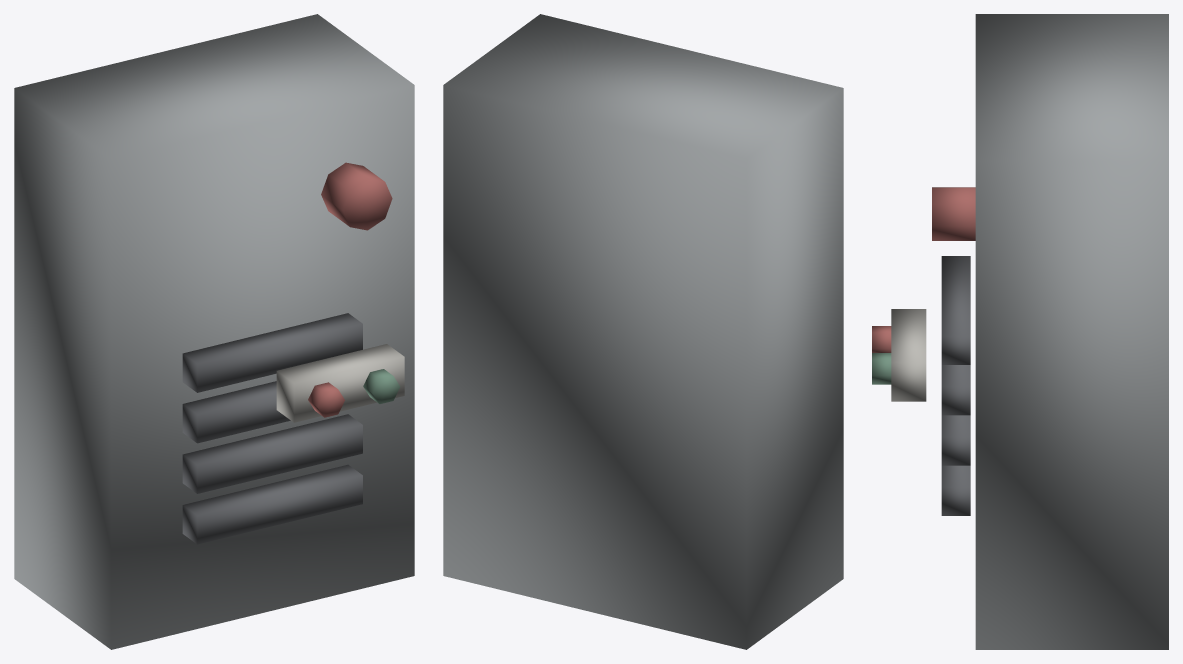
The model's file is wall_intercom__deep.glb.
3 views of the same model, side by side, from view 1: azimuth 30°, elevation 25°; view 2: azimuth 150°, elevation 25°; view 3: azimuth 270°, elevation 25° (orthographic).
Parts seen in each view (by area): view 1: world; view 2: world; view 3: world.
Part boxes in pixels (x1,y1,x2,y2): world: [14, 14, 414, 649]; world: [443, 14, 843, 649]; world: [872, 14, 1168, 649].
Size of the model in its own units: 0.22 by 0.34 by 0.1873.
